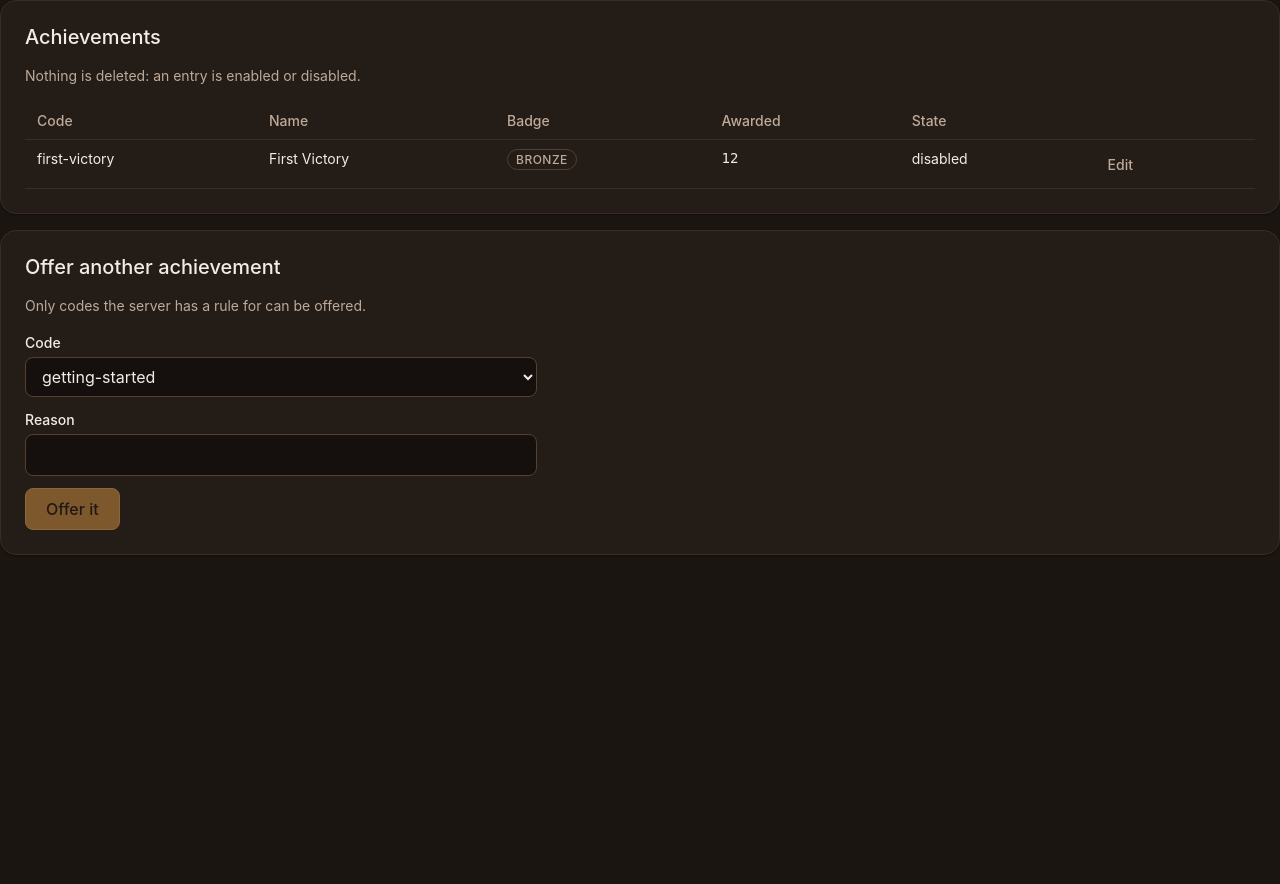
Test: the achievement catalogue › says why an edit was refused, and shows an entry that is no longer offered
Expected: the text "disabled" is shown, [900,140,1083,188]
Click the button with test id "admin-achievement-edit-first-victory" at (1120, 164), box [1094,148,1146,180]
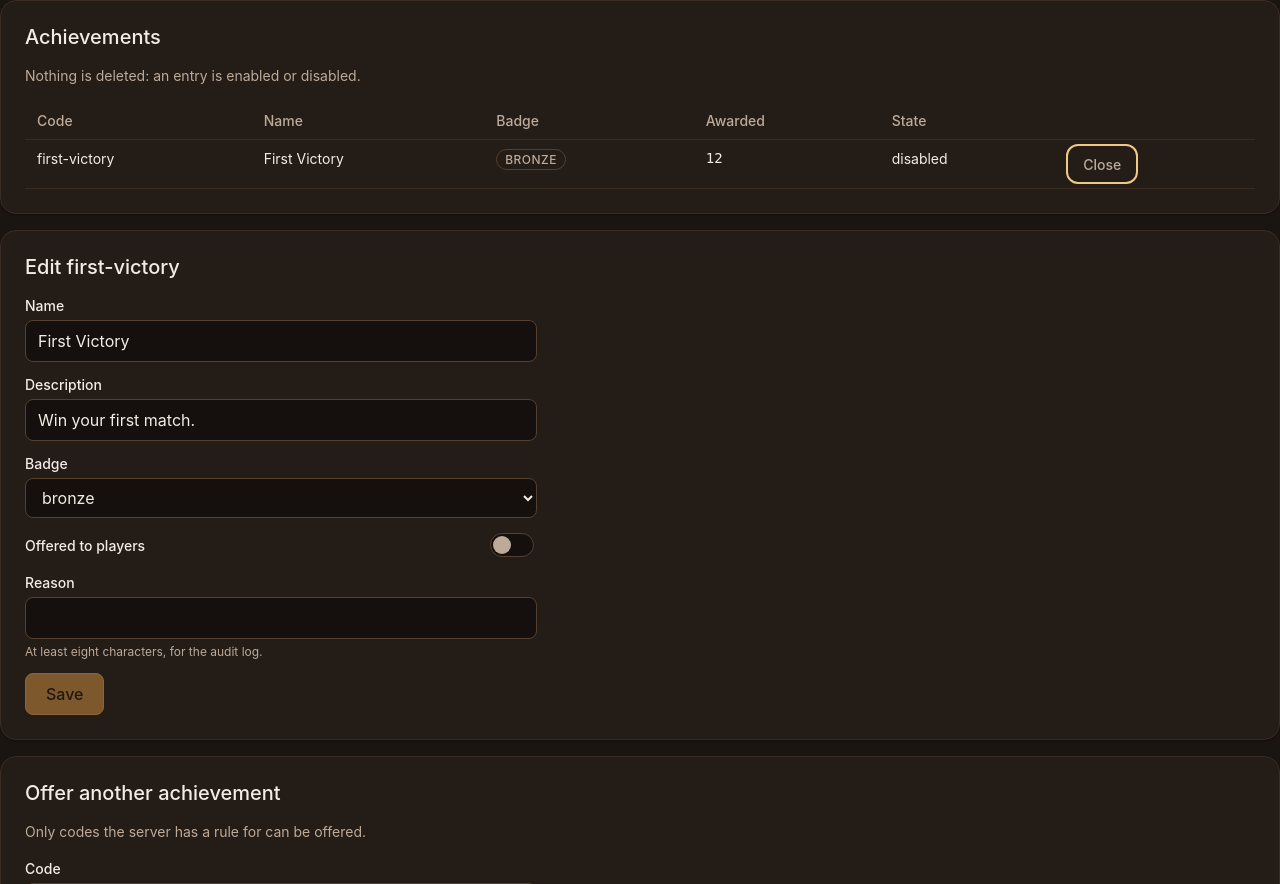
Type "renamed for clarity" into the field with test id "achievement-reason" at (281, 618), box [25,597,537,639]
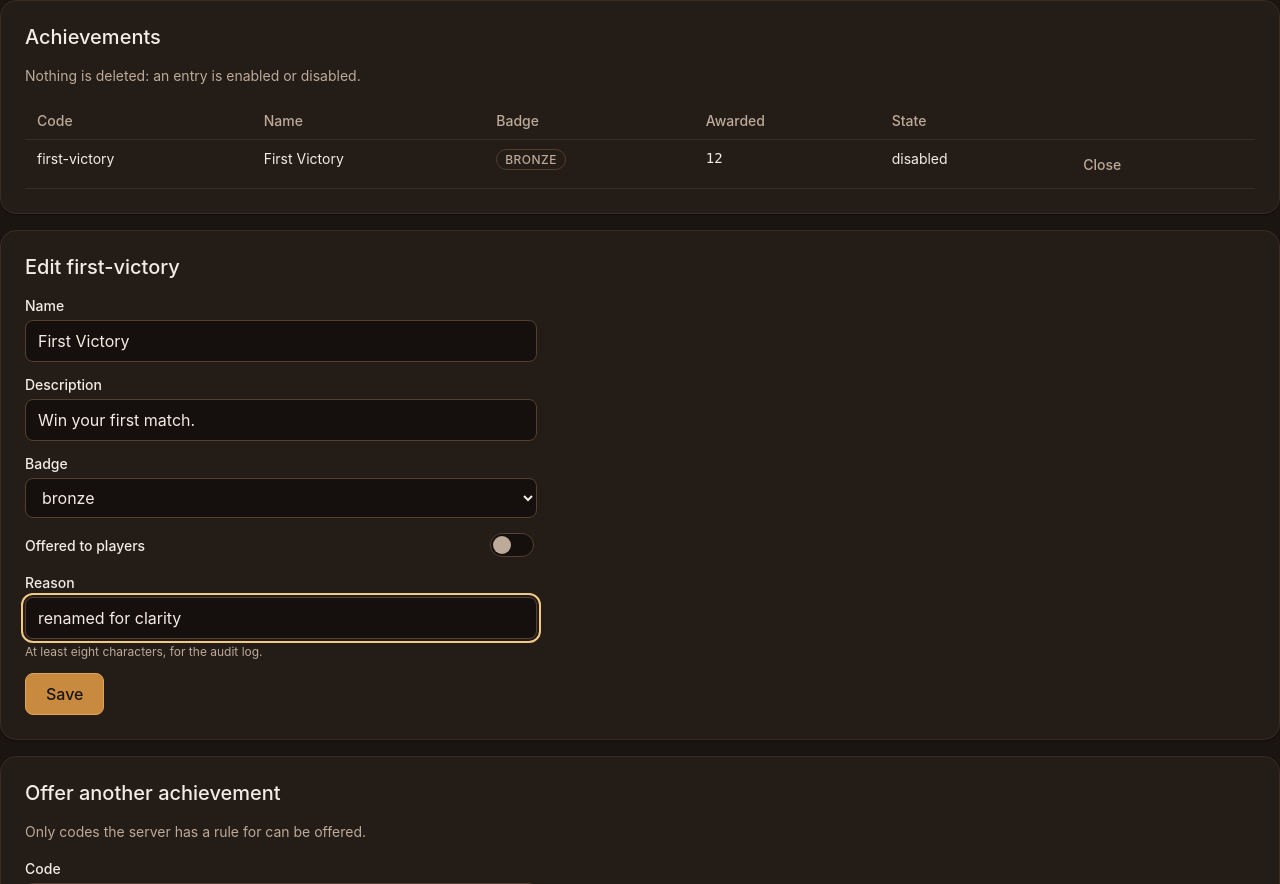
Click the button with test id "achievement-save" at (65, 694), box [25,673,104,715]
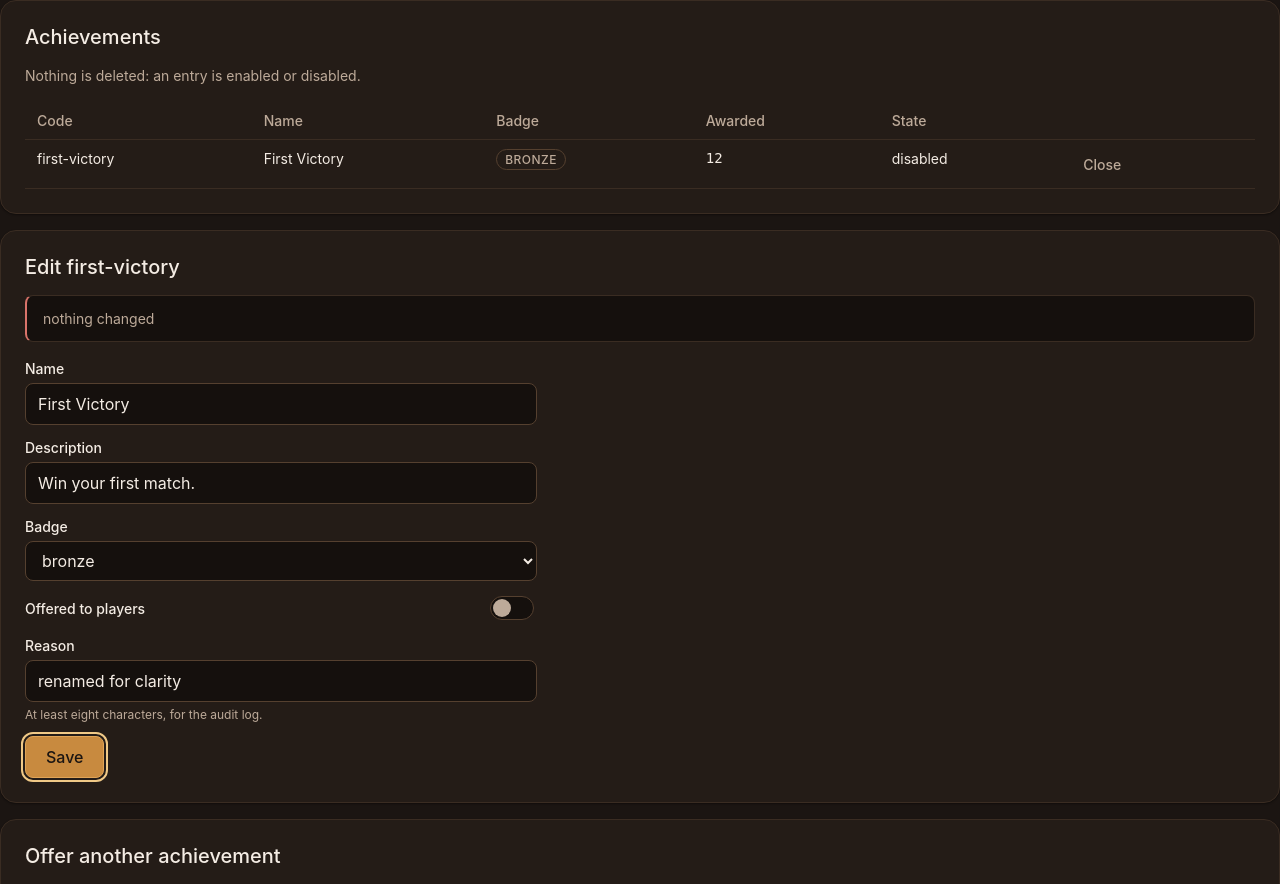
Now the text "nothing changed" is shown, box [43,308,154,329]
